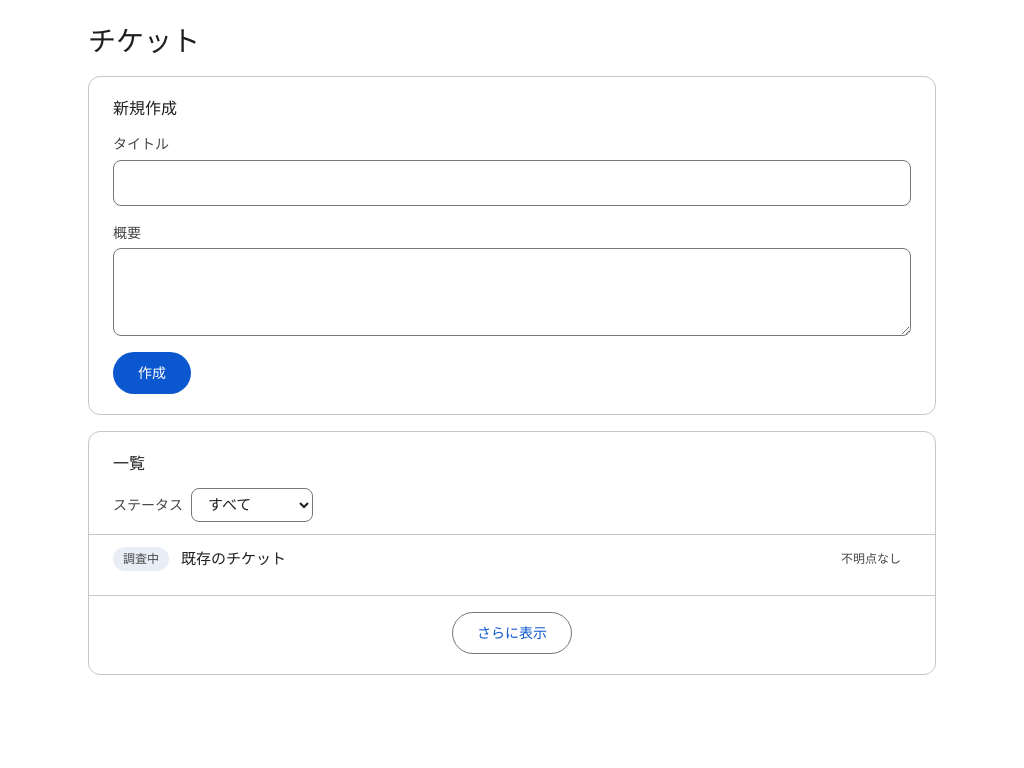
一覧の続き › 続きの取得に失敗したら、それまでの一覧を残したままエラーを出し、もう一度押せる
Click the button "さらに表示".
click(512, 633)  # box [452,612,572,654]
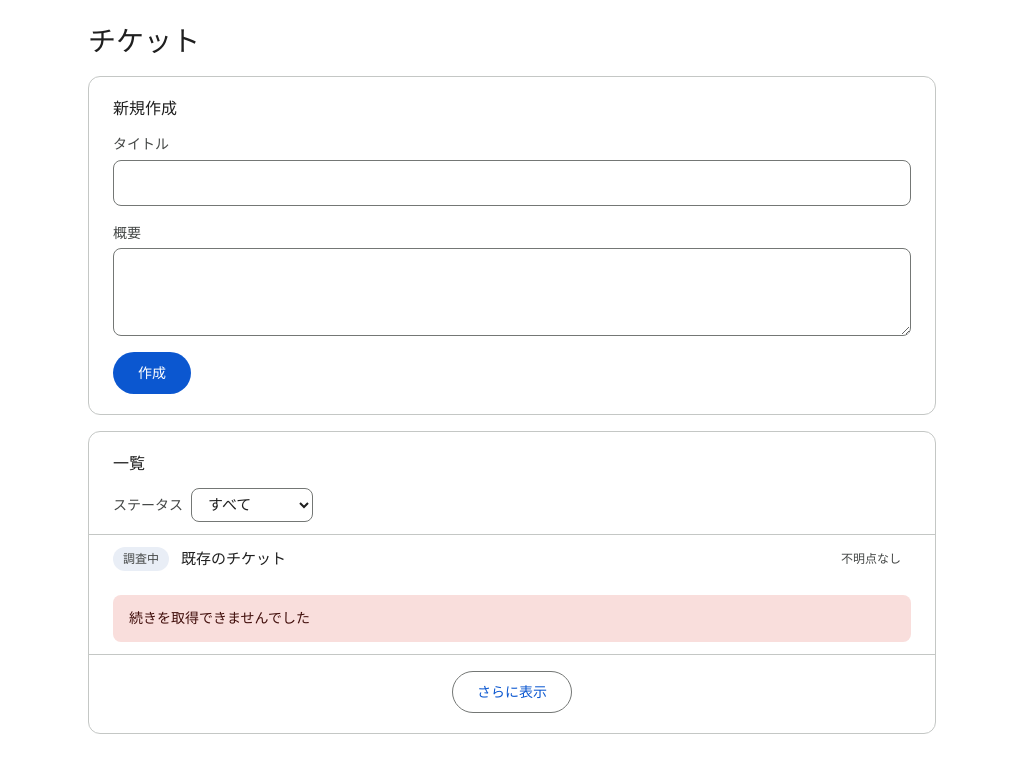
expect the link "既存のチケット" is shown: met, box [181,550,286,568]
expect the message reads "続きを取得できませんでした": met, box [129,610,310,626]
